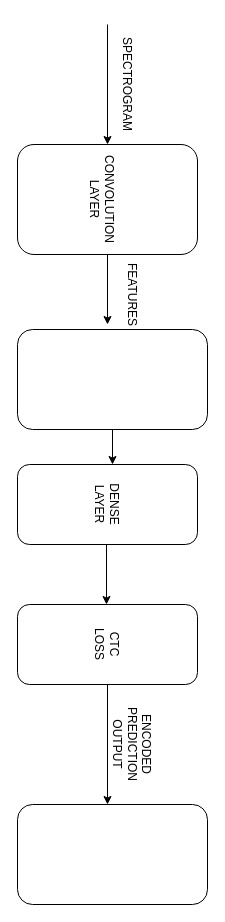
Image size: 225x922. Some labels were removed from this diagram. Each missing label, with the box of its shape:
BIDIRECTIONAL LSTM LAYER: (16, 328, 208, 430)
GREEDY DECODING / PREFIX BEAM SEARCH: (16, 804, 208, 904)
